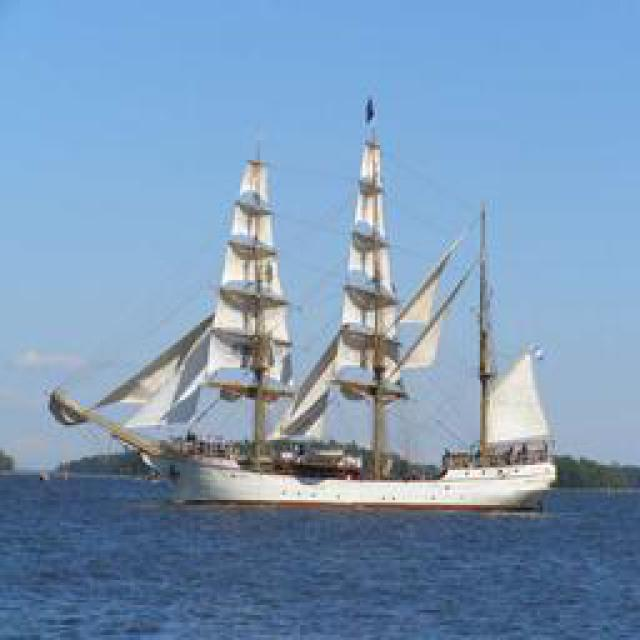Ship: (50, 85, 550, 508)
